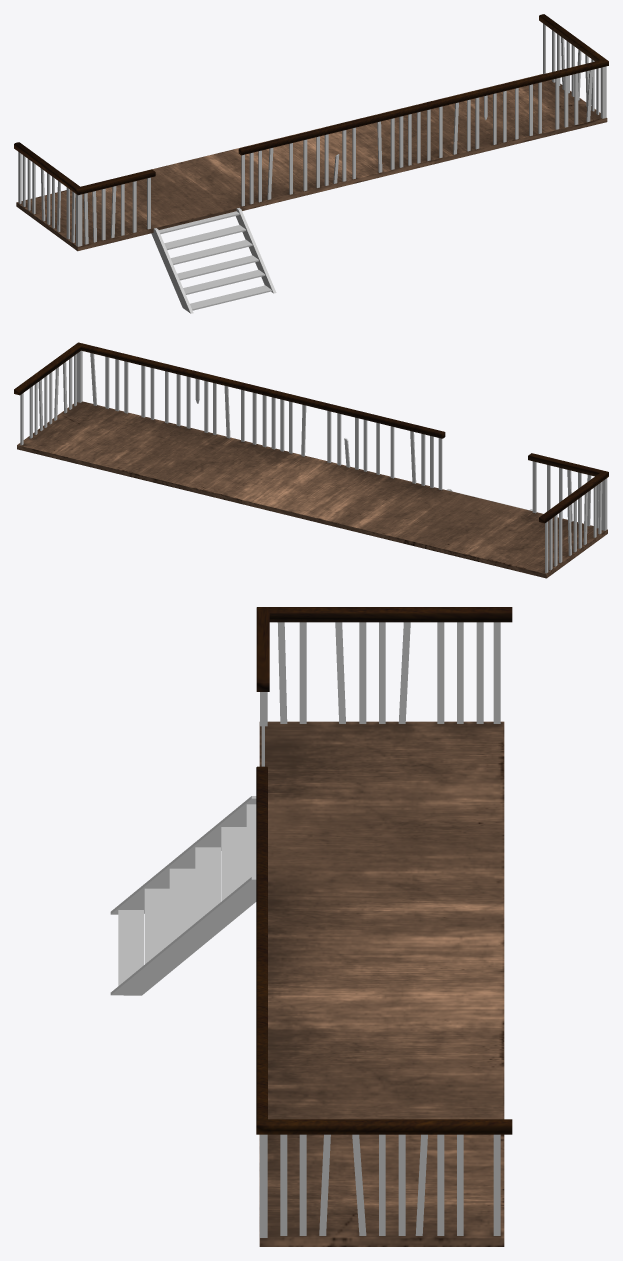
3 renders of one model, top to bottom at view 1: azimuth 30°, elevation 25°; view 2: azimuth 150°, elevation 25°; view 3: azimuth 270°, elevation 25°, orthographic. The views are drawn at different scales.
Visible parts, largest first — view 1: Terr_2_0, Terr_1_2, Terr_3_4, Terr_4_1_3, Terr_4_1; view 2: Terr_2_0, Terr_1_2, Terr_4_1_3, Terr_4_1; view 3: Terr_2_0, Terr_1_2, Terr_3_4, Terr_4_1_3, Terr_4_1.
Boxes of the visible parts, box(x1,y1,x2,y2) form: Terr_2_0: box(16, 74, 607, 251); Terr_1_2: box(18, 23, 606, 246); Terr_3_4: box(151, 208, 276, 313); Terr_4_1_3: box(238, 14, 608, 155); Terr_4_1: box(14, 142, 155, 195); Terr_2_0: box(17, 401, 607, 578); Terr_1_2: box(20, 350, 607, 573); Terr_4_1_3: box(14, 342, 445, 438); Terr_4_1: box(528, 453, 608, 523); Terr_2_0: box(259, 721, 504, 1246); Terr_1_2: box(260, 622, 500, 1237); Terr_3_4: box(110, 796, 256, 995); Terr_4_1_3: box(256, 766, 512, 1134); Terr_4_1: box(256, 607, 512, 691).
Size of the model in its own units: 10.03 by 2.09 by 3.29.
